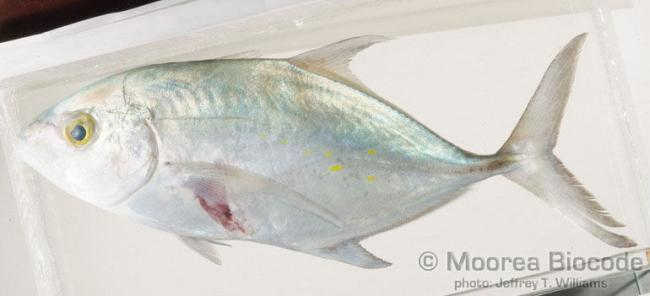fish: (18, 34, 637, 270)
